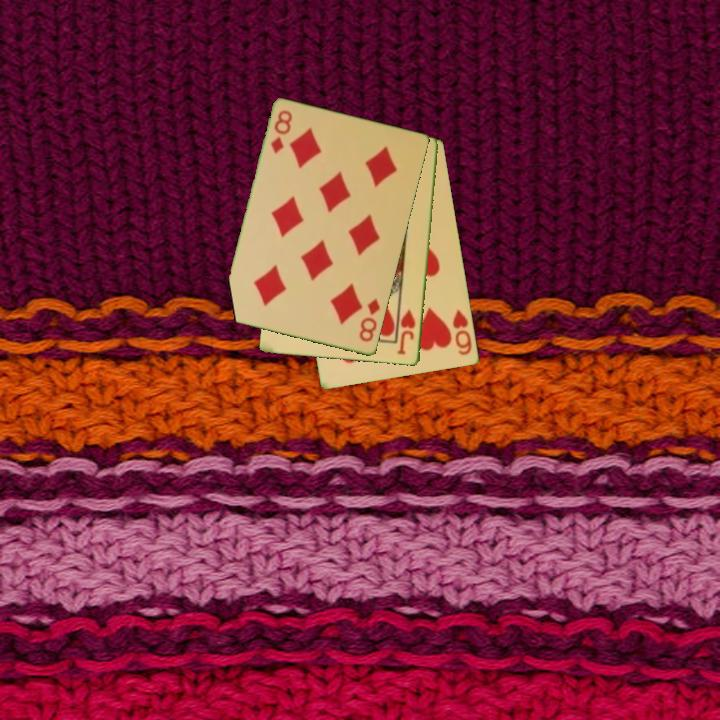6h: (449, 306, 475, 358)
8d: (267, 107, 295, 157), (356, 295, 383, 345)
Jh: (394, 306, 419, 358)
